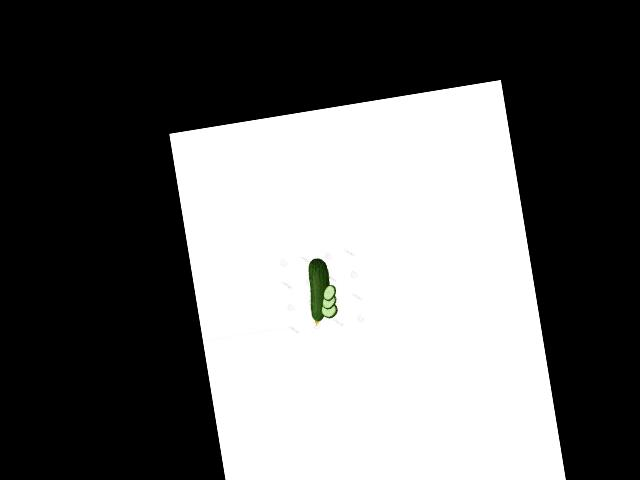cucumber: (303, 256, 336, 325)
